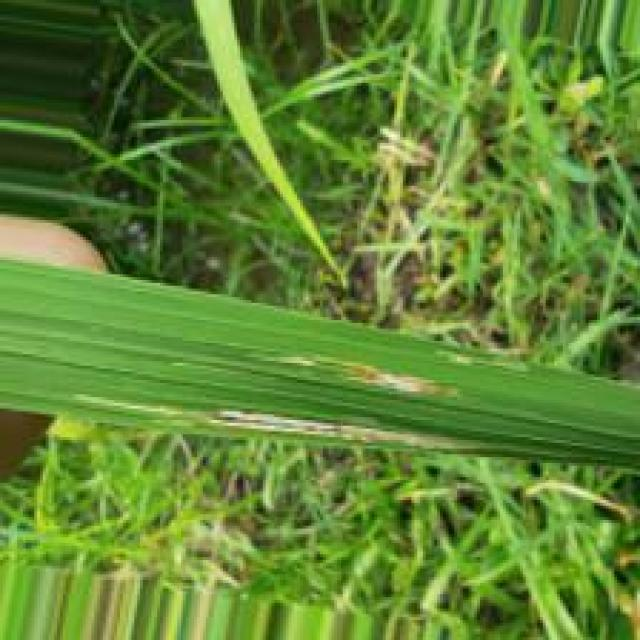Rice_Hispa: (209, 405, 470, 452), (322, 359, 455, 399)
